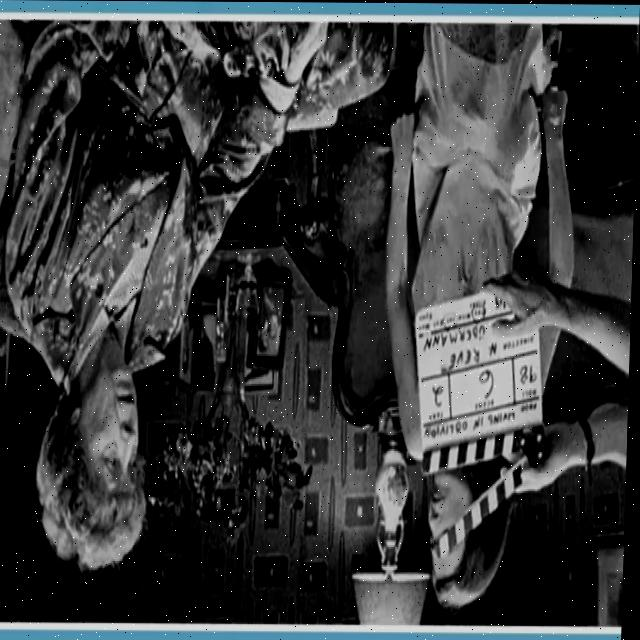Clapperboard: (403, 290, 548, 563)
